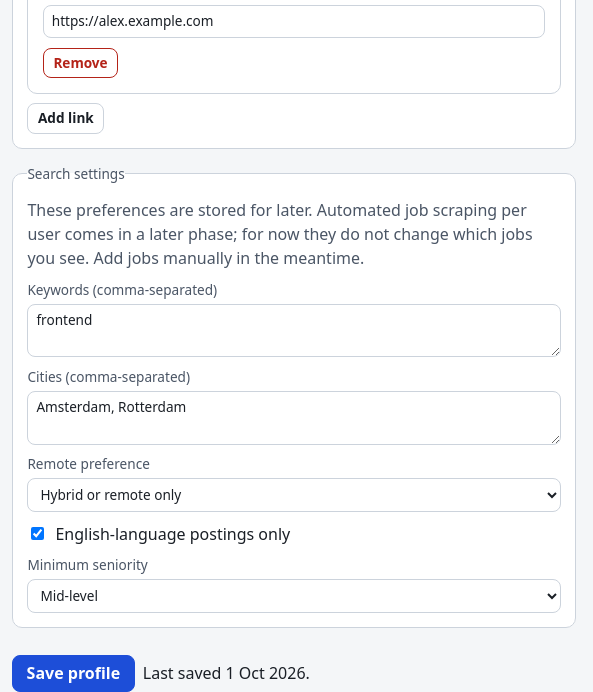
it: ProfileEditor › shows the error of a failed save and the saving state
(page scrolled)
Click the button "Save profile" at [73, 673], box [12,655,135,691]
(page scrolled)
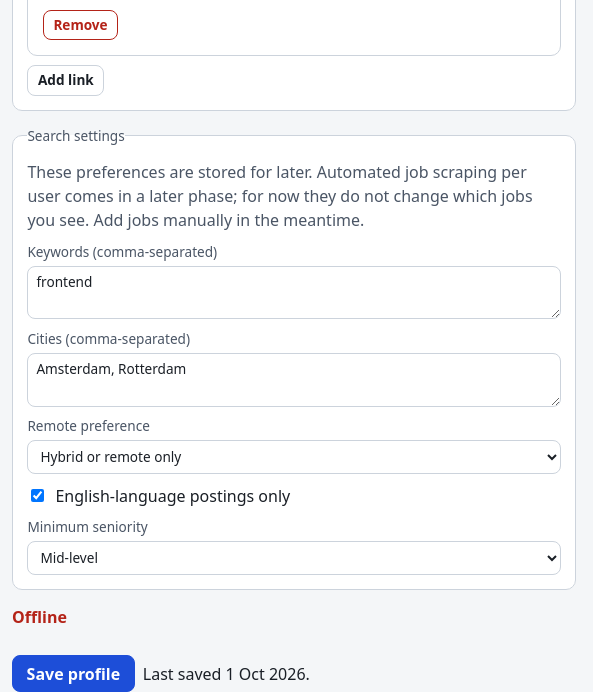
Expected: the message reads "Offline", [12,606,67,628]
Click the button "Save profile" at [73, 674], box [12,655,135,691]
(page scrolled)
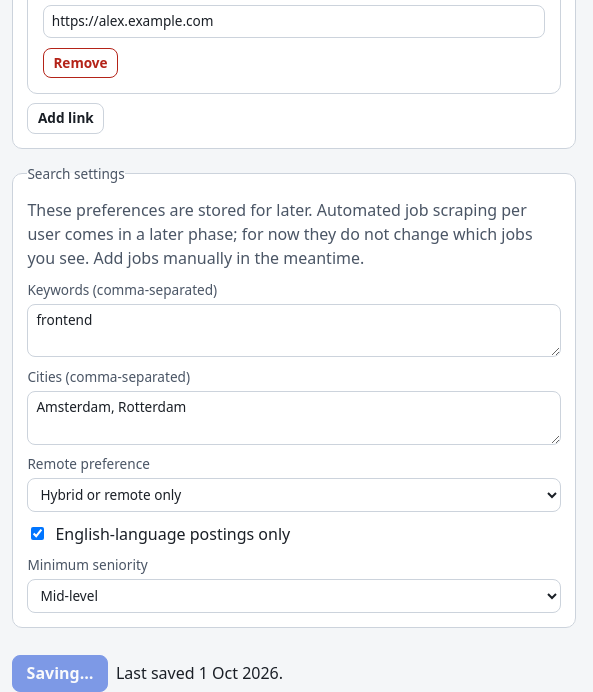
Expected: the button "Saving…" is disabled, [12,655,108,691]
